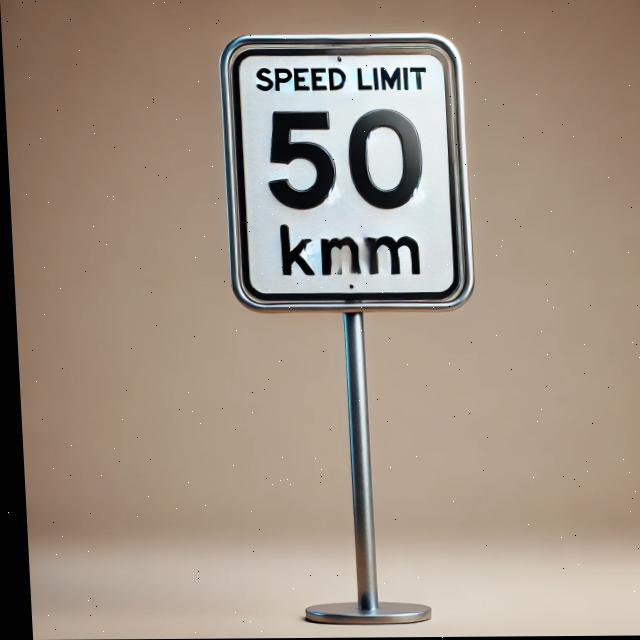Speed limit 50: (216, 32, 475, 316)
